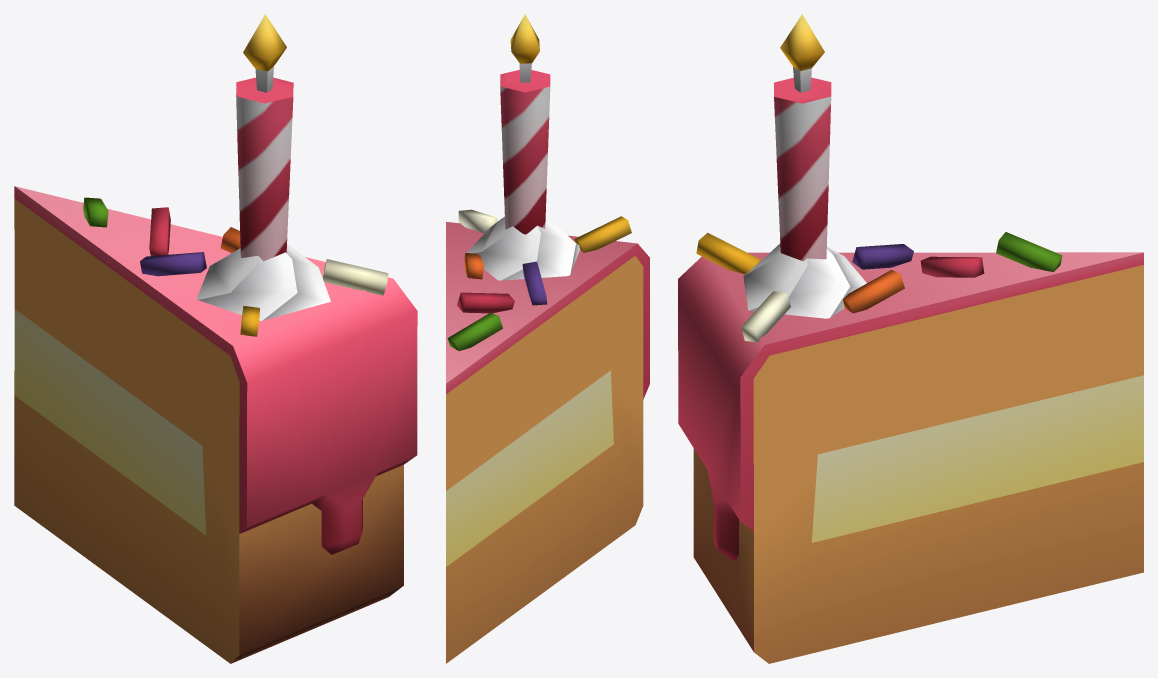
Rendered from m_BirthdayCake01_Slice03.fbx.
The picture shows the model from 3 angles, left to right: view 1: azimuth 30°, elevation 25°; view 2: azimuth 150°, elevation 25°; view 3: azimuth 270°, elevation 25°; orthographic projection. The views are drawn at different scales.
Parts seen in each view (by area): view 1: m_BirthdayCake01_Slice03; view 2: m_BirthdayCake01_Slice03; view 3: m_BirthdayCake01_Slice03.
Boxes of the visible parts, bbox=[...] form: m_BirthdayCake01_Slice03: bbox=[14, 14, 417, 663]; m_BirthdayCake01_Slice03: bbox=[446, 14, 649, 663]; m_BirthdayCake01_Slice03: bbox=[678, 14, 1143, 663].
Size of the model in its own units: 7.24 by 20.5 by 14.48.
